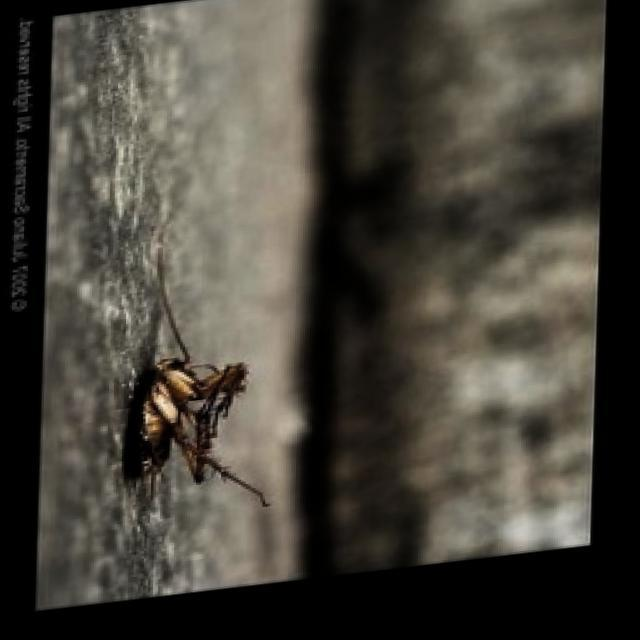cockroach: (114, 221, 275, 514)
